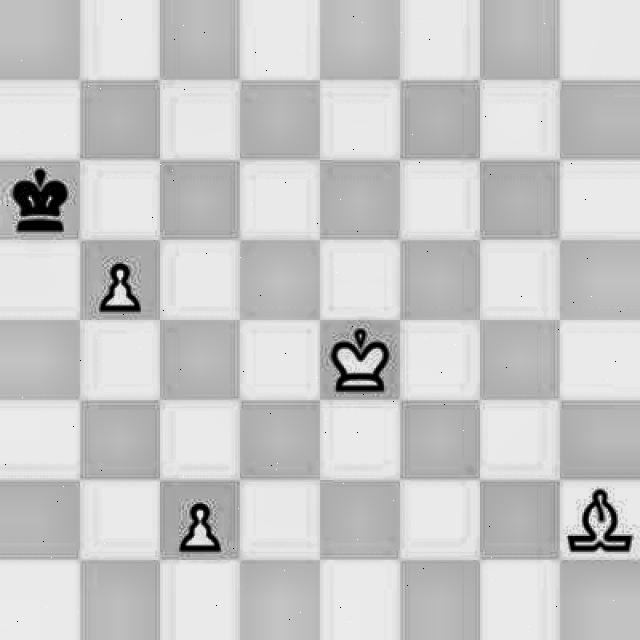black king: (7, 163, 75, 232)
white bishop: (565, 485, 635, 559)
white king: (318, 324, 400, 402)
white pawn: (85, 242, 155, 316), (170, 485, 230, 561)
